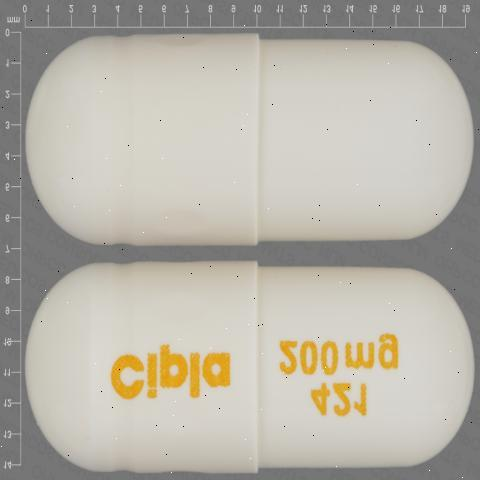Pill: (15, 28, 478, 256), (19, 265, 475, 473)
